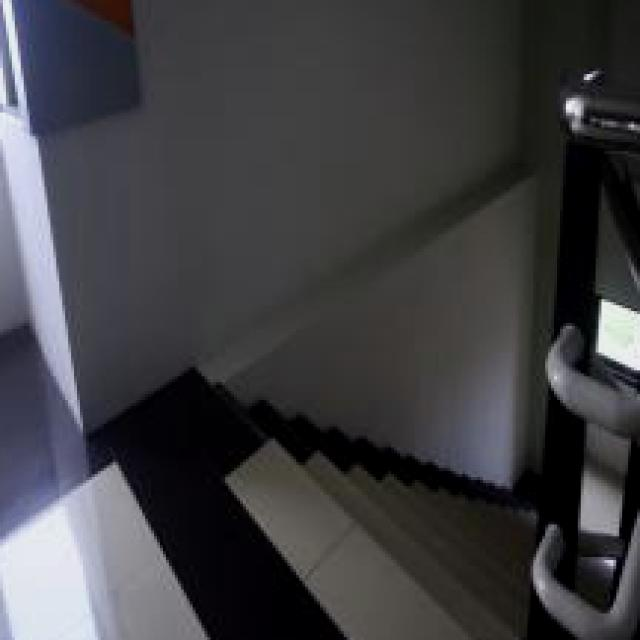downstair: (202, 475, 487, 640)
